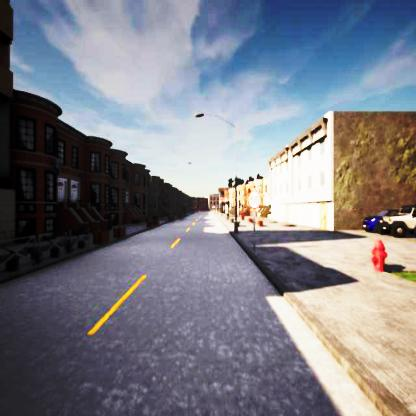vehicle: (364, 203, 415, 237)
